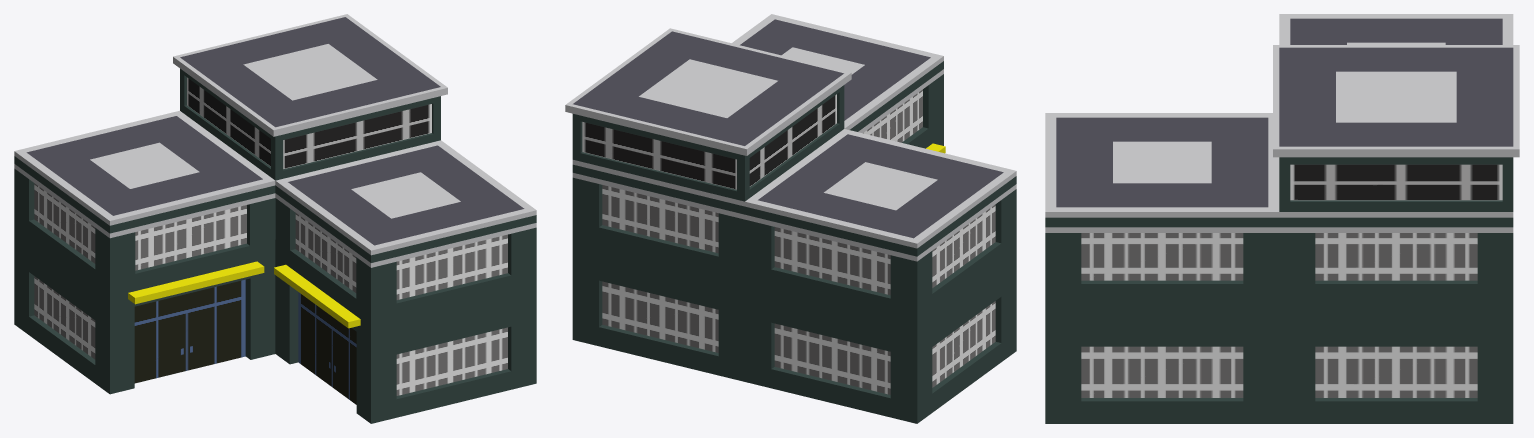
File: building2a.FBX
3 renders of one model, left to right at view 1: azimuth 30°, elevation 25°; view 2: azimuth 150°, elevation 25°; view 3: azimuth 270°, elevation 25°, orthographic. The views are drawn at different scales.
Visible parts, largest first — view 1: building2a; view 2: building2a; view 3: building2a.
Boxes of the visible parts, <box> form: building2a: <box>14,14,536,423</box>; building2a: <box>565,14,1016,423</box>; building2a: <box>1045,14,1519,423</box>.
Bounding box in the file's own units: 20.27 × 13.08 × 20.27.
